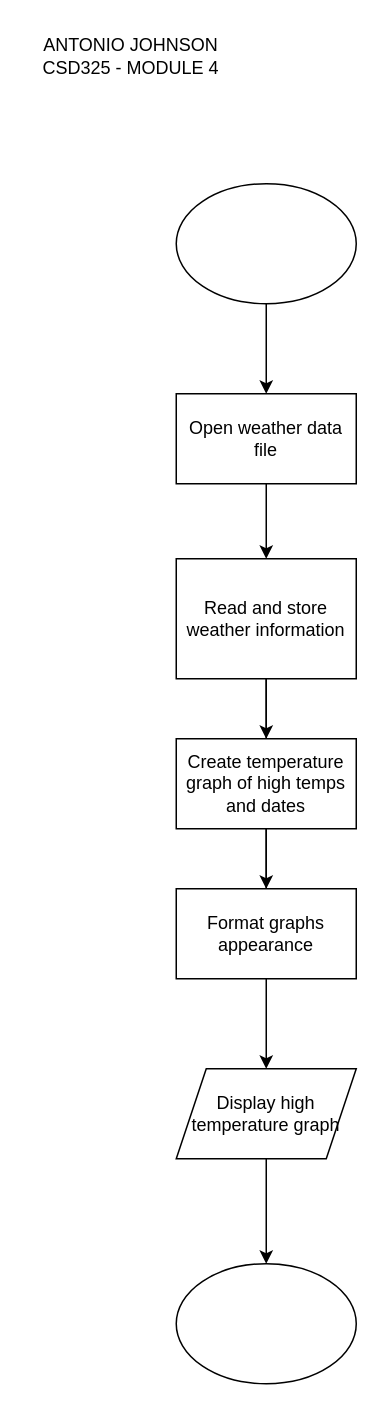
The diagram is 383 pixels wide and 1410 high, and some of its shapes have lost their labels. The shapes that lost their labels are listed below. From the top down, each one's box as (x1, y1, x2, y2) in pixels, then its label:
(175, 182, 356, 304): START
(175, 1262, 356, 1384): END
